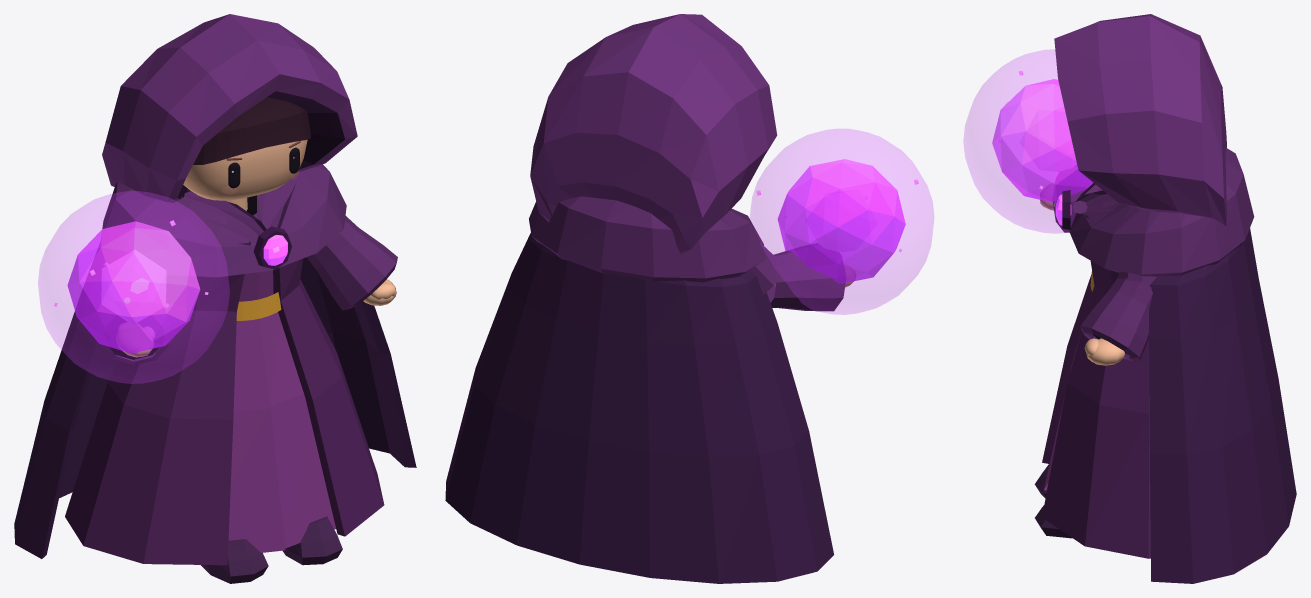
The model's file is seer.glb.
The picture shows the model from 3 angles, left to right: view 1: azimuth 30°, elevation 25°; view 2: azimuth 150°, elevation 25°; view 3: azimuth 270°, elevation 25°; orthographic projection. The views are drawn at different scales.
Visible parts, largest first — view 1: RobeGroup, MagicOrbAnchor, HoodGroup, CapeGroup, ShoulderMantle, OrbSpinGroup, FaceGroup, LeftForearm, Shoes, BroochGroup, WaistBelt, RightForearm (+1 smaller); view 2: CapeGroup, HoodGroup, MagicOrbAnchor, ShoulderMantle, OrbSpinGroup, RightForearm, ArmRightPivot; view 3: CapeGroup, HoodGroup, RobeGroup, MagicOrbAnchor, ShoulderMantle, OrbSpinGroup, LeftForearm, LeftHand, Shoes, BroochGroup.
Boxes of the visible parts, x1,y1,x2,y2 form: RobeGroup: [65, 241, 384, 565]; MagicOrbAnchor: [38, 191, 229, 383]; HoodGroup: [102, 14, 357, 202]; CapeGroup: [14, 257, 416, 558]; ShoulderMantle: [102, 164, 346, 277]; OrbSpinGroup: [67, 221, 200, 353]; FaceGroup: [183, 97, 311, 200]; LeftForearm: [306, 216, 397, 310]; Shoes: [201, 516, 342, 583]; BroochGroup: [253, 226, 291, 269]; WaistBelt: [236, 292, 281, 320]; RightForearm: [101, 341, 169, 365]; CapeGroup: [445, 233, 833, 583]; HoodGroup: [530, 14, 777, 254]; MagicOrbAnchor: [750, 129, 934, 314]; ShoulderMantle: [529, 196, 765, 282]; OrbSpinGroup: [777, 159, 905, 283]; RightForearm: [766, 251, 845, 311]; ArmRightPivot: [750, 243, 783, 294]; CapeGroup: [1149, 228, 1296, 583]; HoodGroup: [1054, 14, 1226, 227]; RobeGroup: [1042, 214, 1150, 558]; MagicOrbAnchor: [963, 49, 1092, 233]; ShoulderMantle: [1069, 148, 1254, 276]; OrbSpinGroup: [992, 79, 1092, 202]; LeftForearm: [1081, 277, 1152, 361]; LeftHand: [1084, 338, 1124, 365]; Shoes: [1034, 464, 1072, 538]; BroochGroup: [1054, 190, 1071, 229].
Size of the model in its own units: 0.6139 by 0.7206 by 0.4402.
